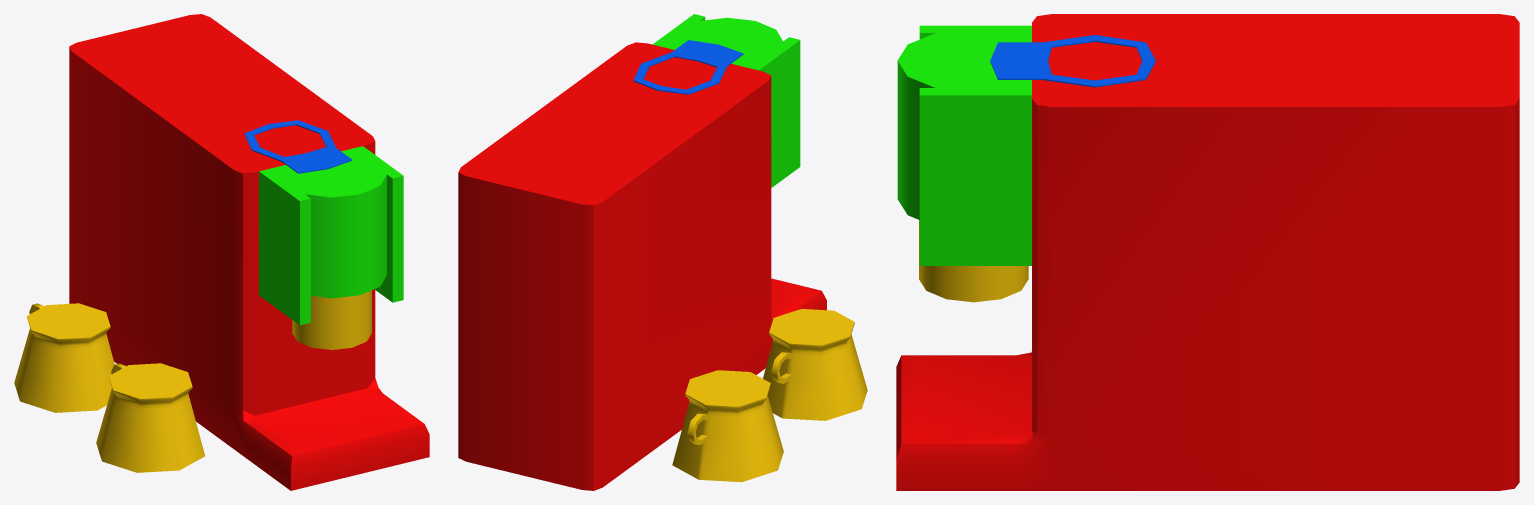
File: hospital_fnt_cafetera1.fbx
3 renders of one model, left to right at view 1: azimuth 30°, elevation 25°; view 2: azimuth 150°, elevation 25°; view 3: azimuth 270°, elevation 25°, orthographic. The views are drawn at different scales.
Parts seen in each view (by area): view 1: hospital_fnt_cafetera1; view 2: hospital_fnt_cafetera1; view 3: hospital_fnt_cafetera1.
Boxes of the visible parts, x1,y1,x2,y2 form: hospital_fnt_cafetera1: (14,14,429,490); hospital_fnt_cafetera1: (458,14,867,490); hospital_fnt_cafetera1: (896,14,1519,490).
Bounding box in the file's own units: 23.45 × 25.09 × 36.79.
